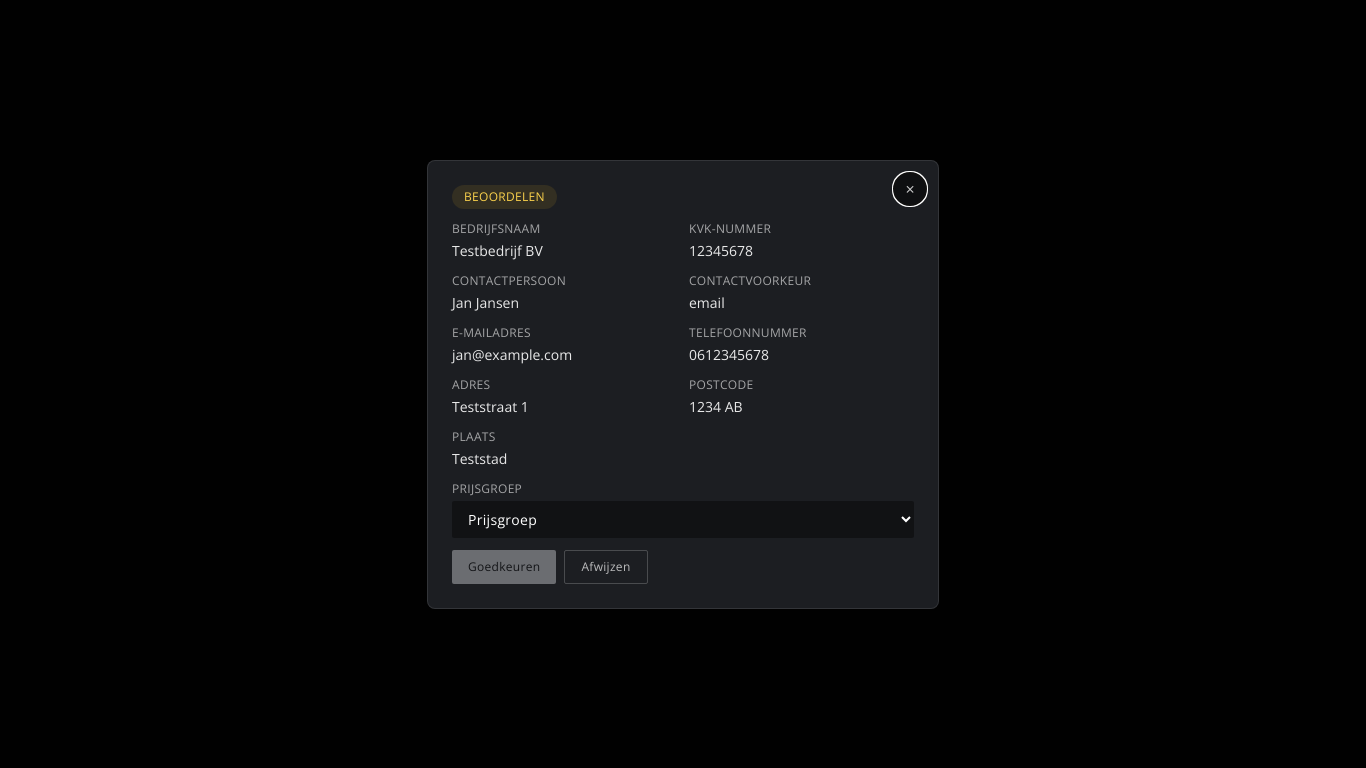
Test: KlantModal › disables Goedkeuren until a prijsgroep is selected
The image size is (1366, 768).
Expected: the button with test id "klant-modal-goedkeuren" is disabled, [452,550,556,584]
Select "Standaard" in the dropdown with test id "klant-modal-prijsgroep" at (683, 519), box [452,500,914,538]
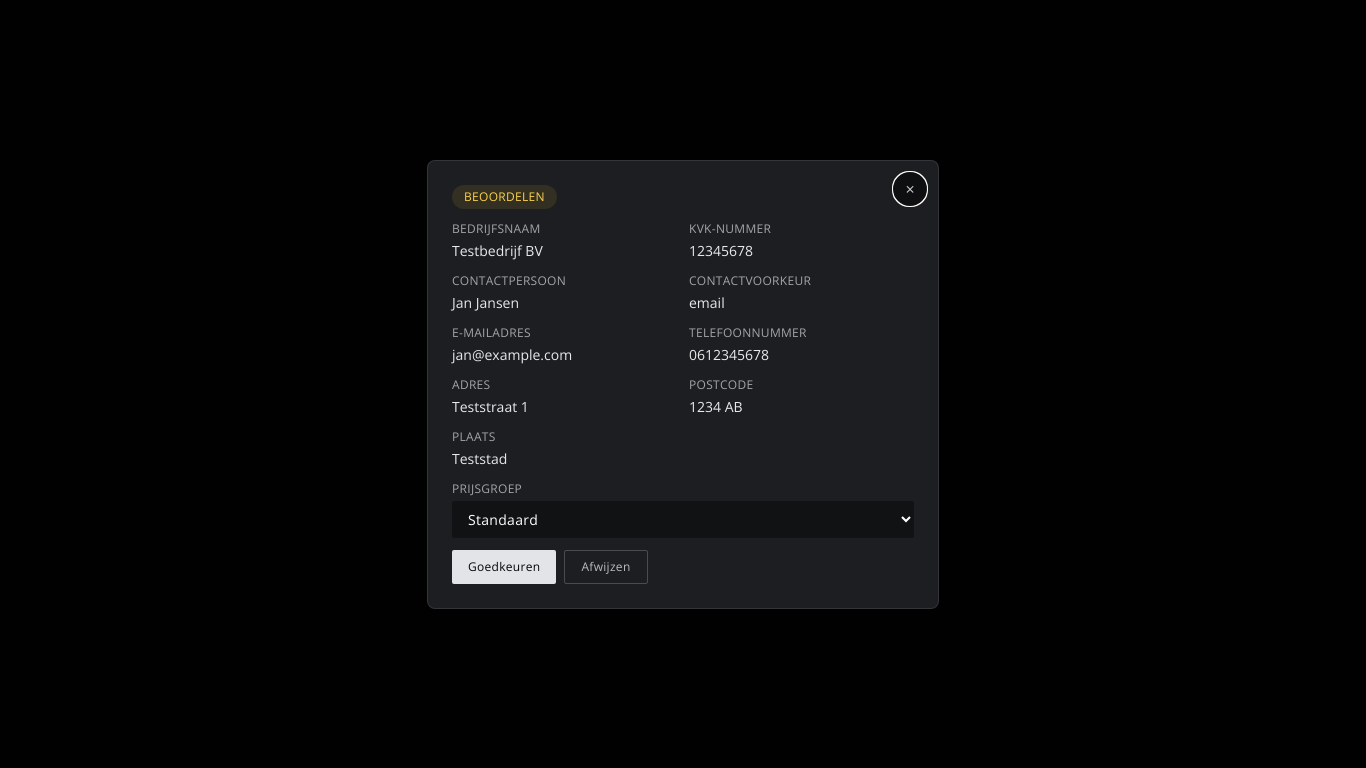
Expected: the button with test id "klant-modal-goedkeuren" is enabled, [452,550,556,584]
